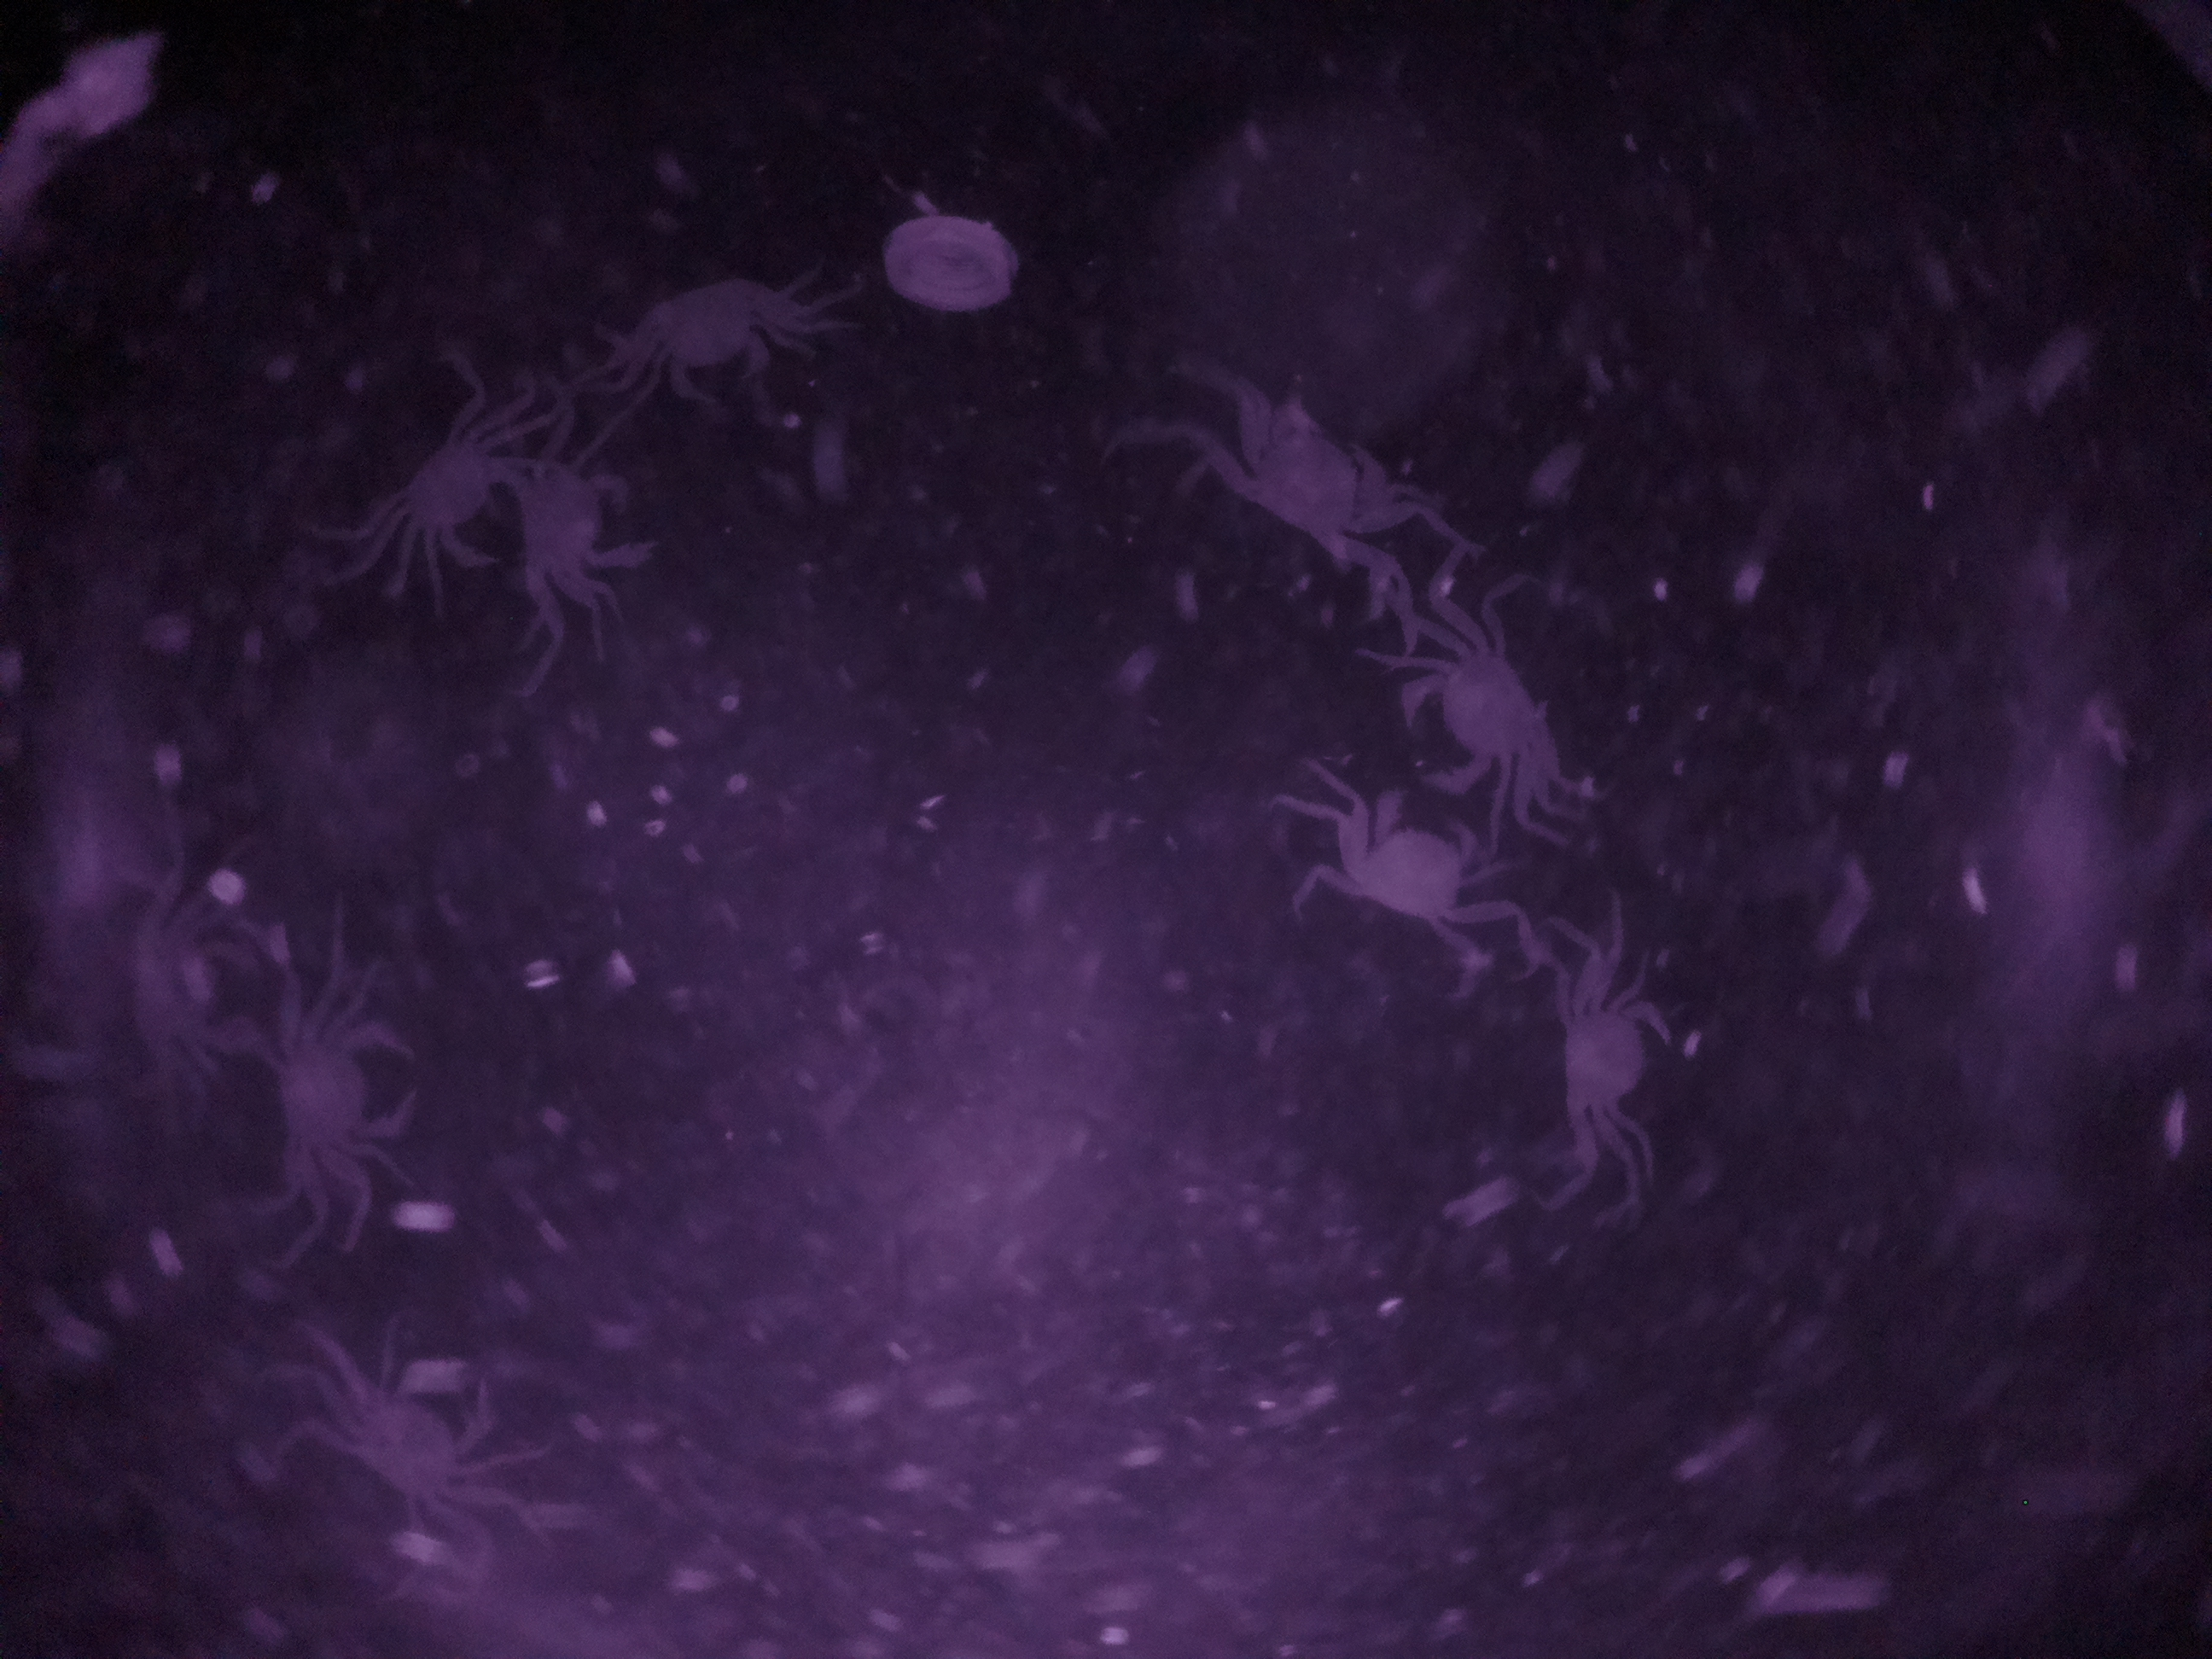Crab: (1158, 376, 1416, 577), (1515, 943, 1681, 1188), (1378, 613, 1569, 819), (489, 443, 683, 631), (594, 265, 826, 415)
